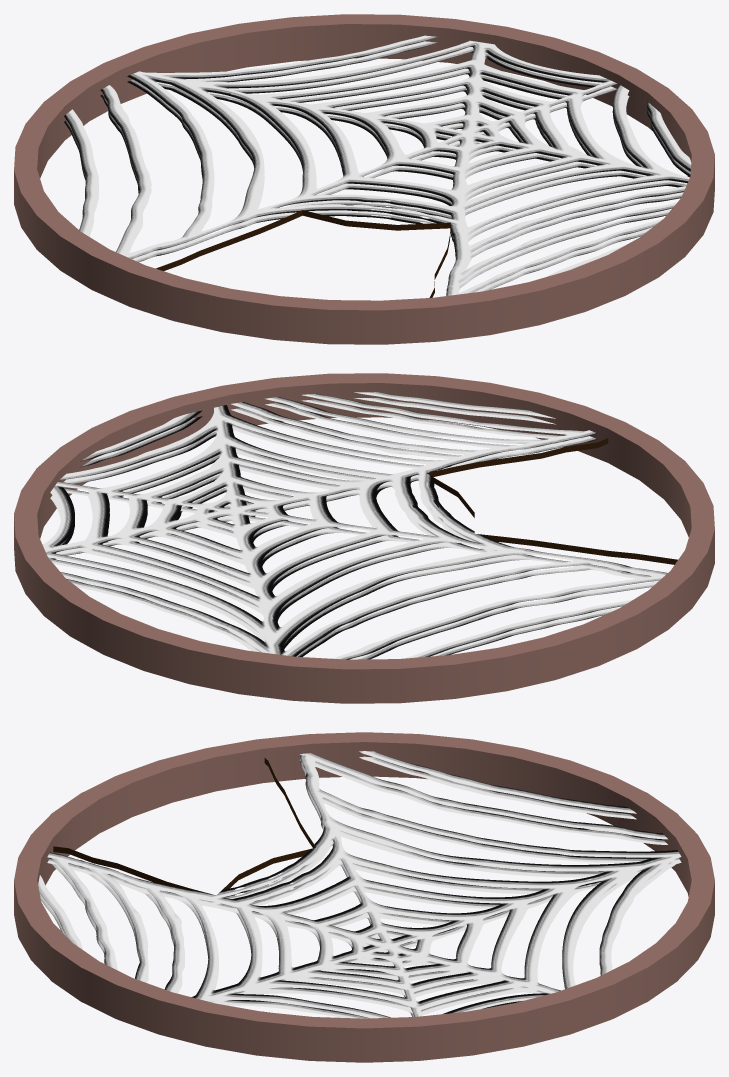
The model's file is obstacle - spider net with one hole.fbx.
The picture shows the model from 3 angles, top to bottom: view 1: azimuth 30°, elevation 25°; view 2: azimuth 150°, elevation 25°; view 3: azimuth 270°, elevation 25°; orthographic projection.
Visible parts, largest first — view 1: pasted__pCylinder1, obstacle___branch_0001:pCylinder1; view 2: pasted__pCylinder1, obstacle___branch_0001:pCylinder1; view 3: pasted__pCylinder1, obstacle___branch_0001:pCylinder1.
Boxes of the visible parts, x1,y1,x2,y2 form: pasted__pCylinder1: [64, 35, 691, 297]; obstacle___branch_0001:pCylinder1: [14, 14, 714, 344]; pasted__pCylinder1: [42, 392, 677, 659]; obstacle___branch_0001:pCylinder1: [14, 373, 714, 703]; pasted__pCylinder1: [38, 751, 681, 1018]; obstacle___branch_0001:pCylinder1: [14, 732, 714, 1062].
Bounding box in the file's own units: 6.45 × 0.3485 × 6.45.
4 materials, 3 textured.
